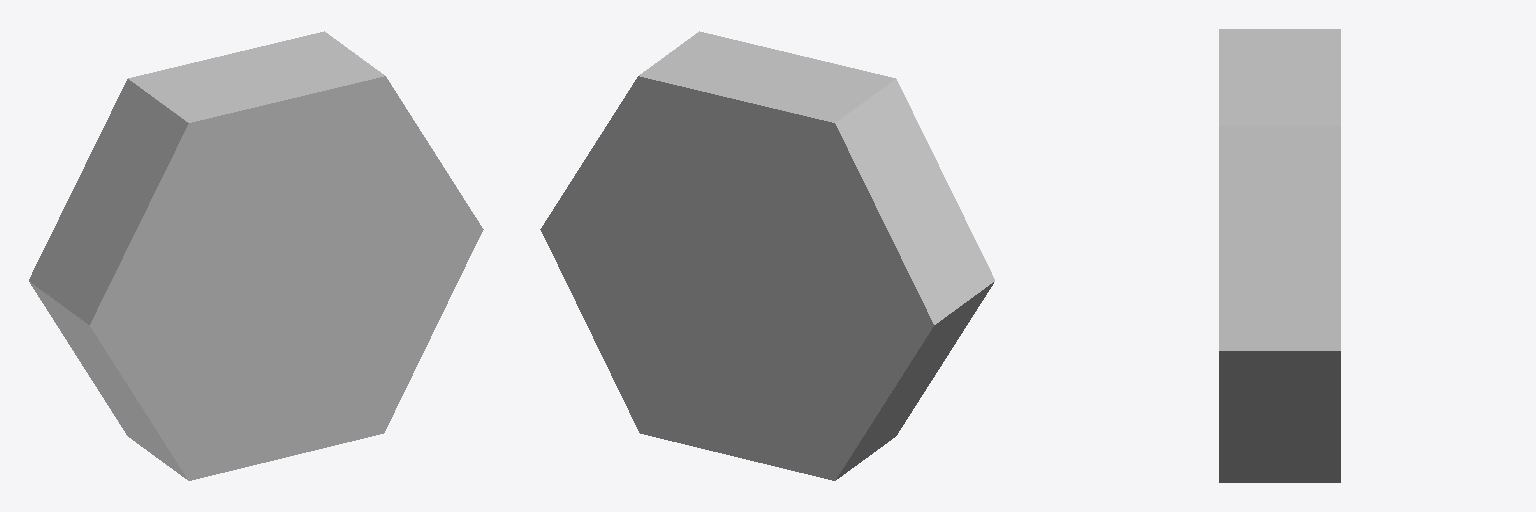
Rendered from HEXAGON.obj.
The picture shows the model from 3 angles: view 1: azimuth 30°, elevation 25°; view 2: azimuth 150°, elevation 25°; view 3: azimuth 270°, elevation 25°; orthographic projection.
Parts seen in each view (by area): view 1: Object.1; view 2: Object.1; view 3: Object.1.
Part boxes in pixels (left/top/right/bottom): Object.1: left=29, top=31, right=483, bottom=480; Object.1: left=540, top=31, right=994, bottom=480; Object.1: left=1219, top=29, right=1340, bottom=482.
Bounding box in the file's own units: 57.59 × 50 × 15.49.